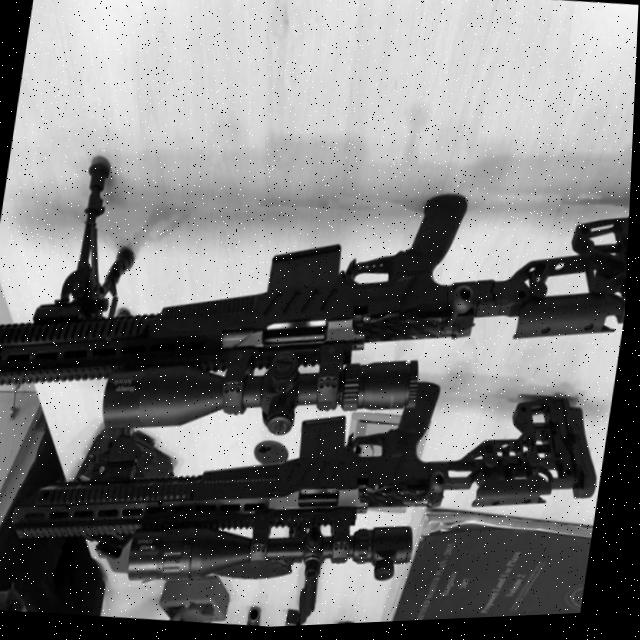firearm: (0, 143, 634, 482), (4, 334, 615, 628)
